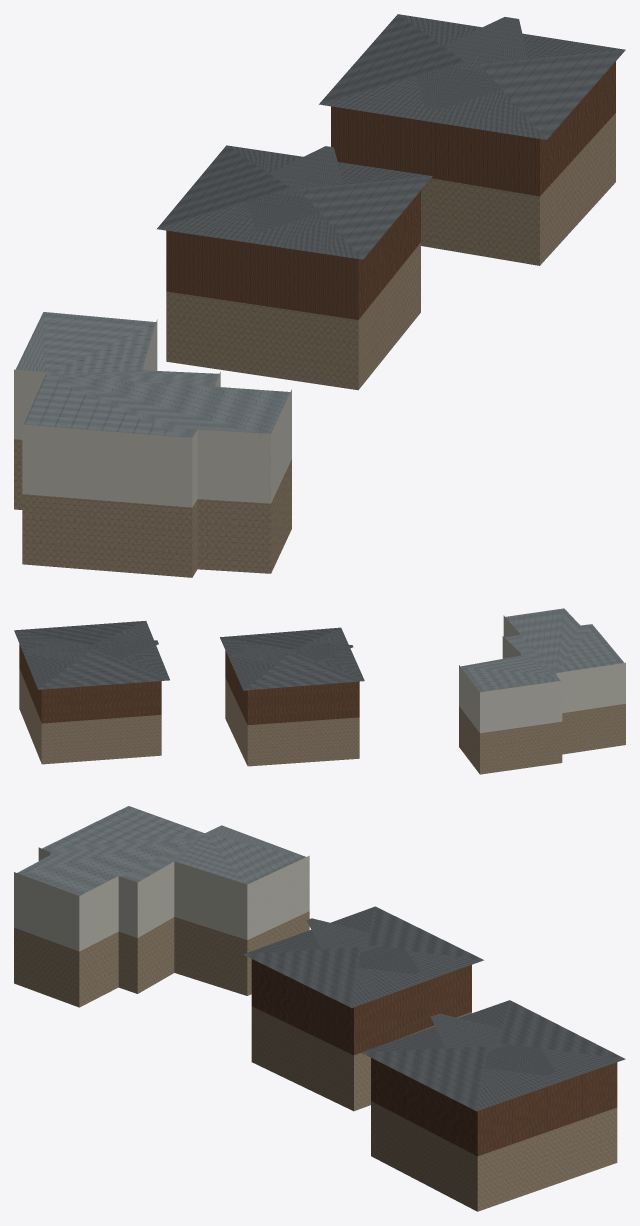
File: bld_c7_8_491.gltf
3 views of the same model, one above another, from view 1: azimuth 30°, elevation 25°; view 2: azimuth 150°, elevation 25°; view 3: azimuth 270°, elevation 25° (orthographic). The views are drawn at different scales.
Visible parts, largest first — view 1: bld_c7_8_491; view 2: bld_c7_8_491; view 3: bld_c7_8_491.
Part boxes in pixels (box(x1,y1,x2,y2)): bld_c7_8_491: box(14, 14, 625, 577); bld_c7_8_491: box(14, 608, 625, 774); bld_c7_8_491: box(14, 806, 625, 1211).
Bounding box in the file's own units: 61.35 × 12 × 49.62.
Materials: 6 (6 with a texture image).
